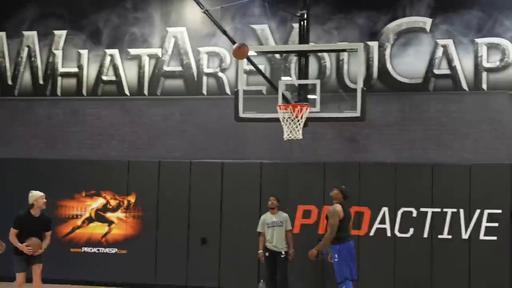ball: (232, 42, 249, 60), (26, 237, 42, 252)
human: (307, 184, 358, 288), (10, 189, 52, 288), (256, 194, 294, 287)
rim: (275, 104, 310, 140)
